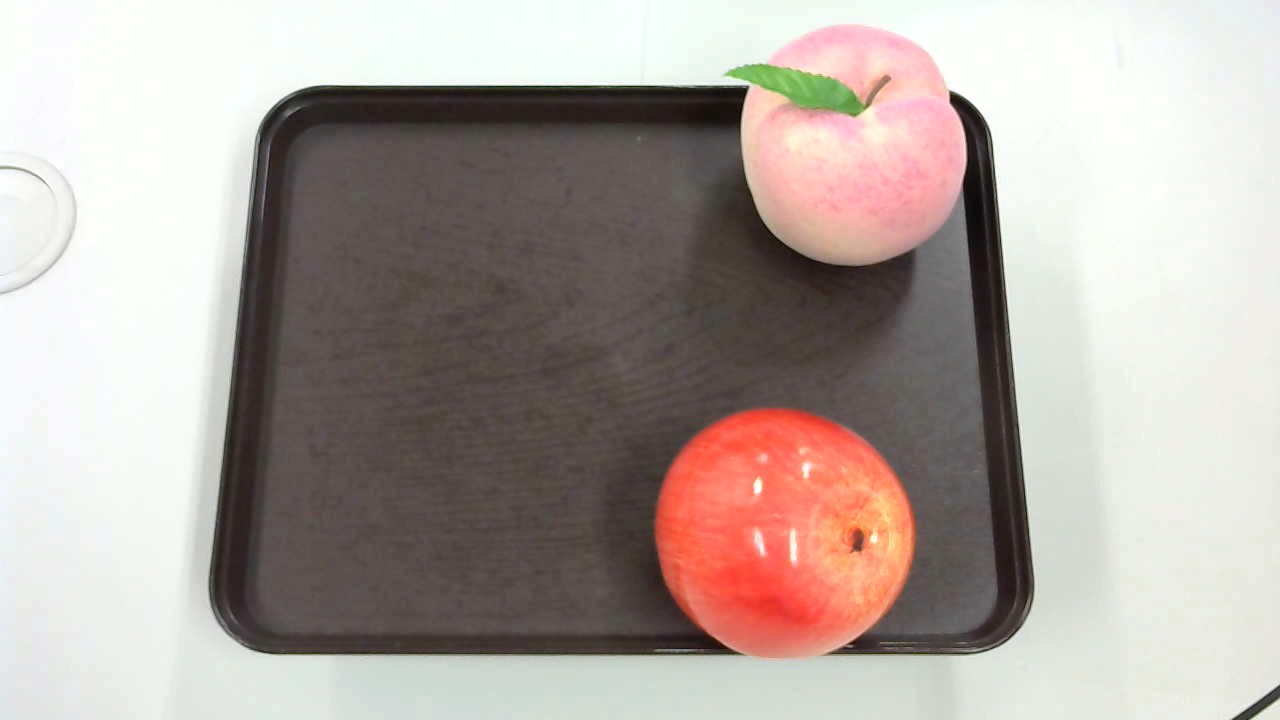peach: (721, 21, 966, 267)
red apple: (647, 409, 917, 662)
